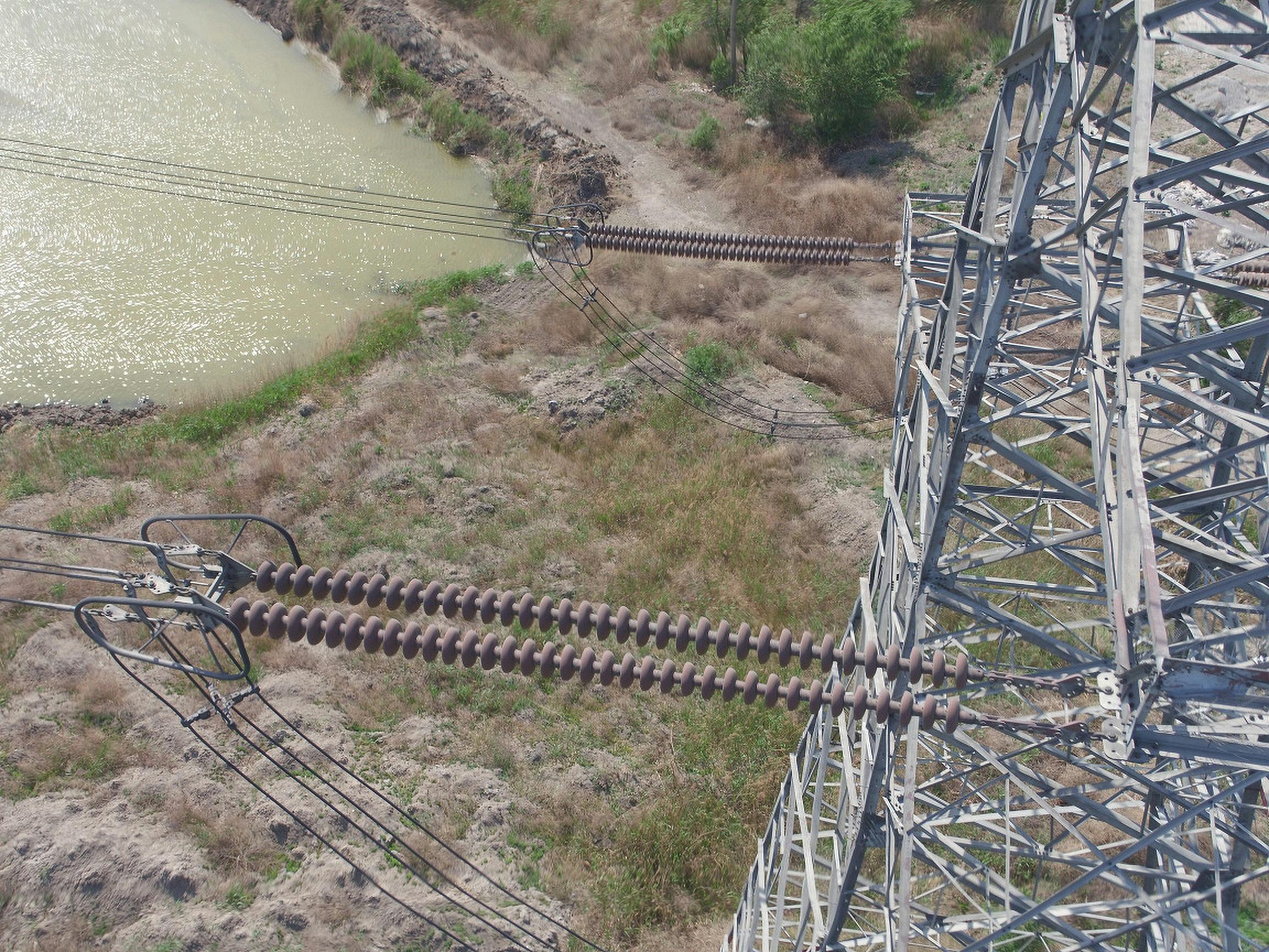insulator: (226, 558, 972, 737), (582, 220, 856, 268)
